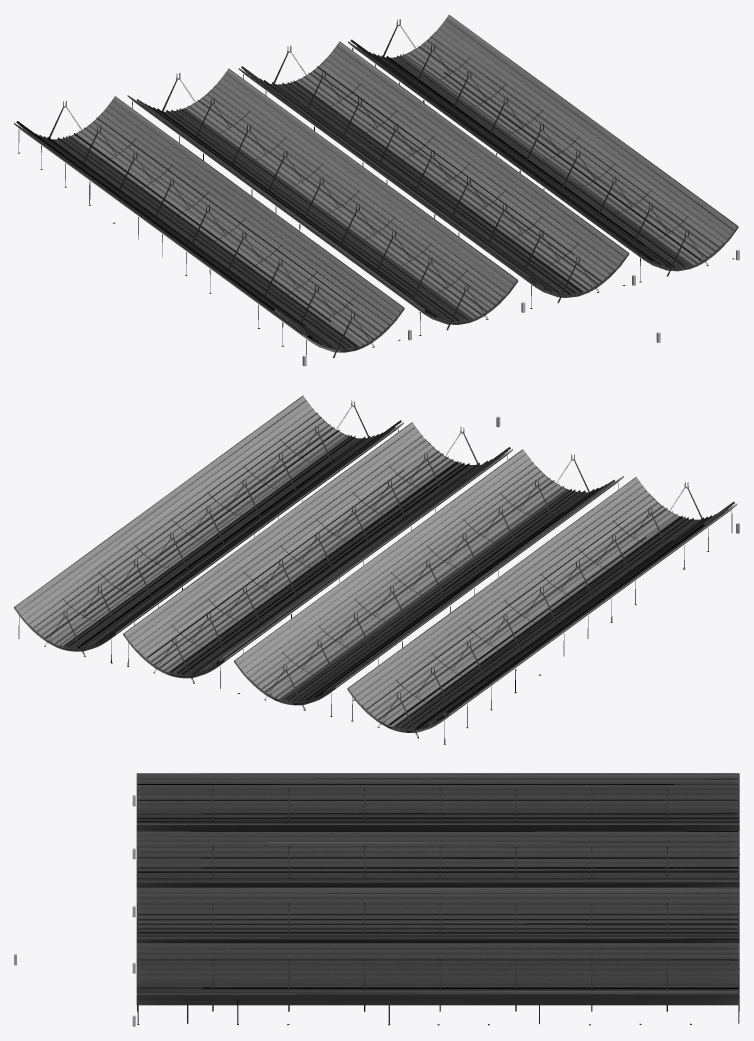
File: chime-dec-7-2021.glb
3 views of the same model, one above another, from view 1: azimuth 30°, elevation 25°; view 2: azimuth 150°, elevation 25°; view 3: azimuth 270°, elevation 25° (orthographic). The views are drawn at different scales.
Parts seen in each view (by area): view 1: radio8; view 2: radio8; view 3: radio8.
Boxes of the visible parts, x1=… form: radio8: x1=14, y1=14, x2=738, y2=357; radio8: x1=14, y1=395, x2=737, y2=744; radio8: x1=136, y1=773, x2=739, y2=1025.
Size of the model in its own units: 87.23 by 9.2 by 120.
7 materials, 1 textured.
